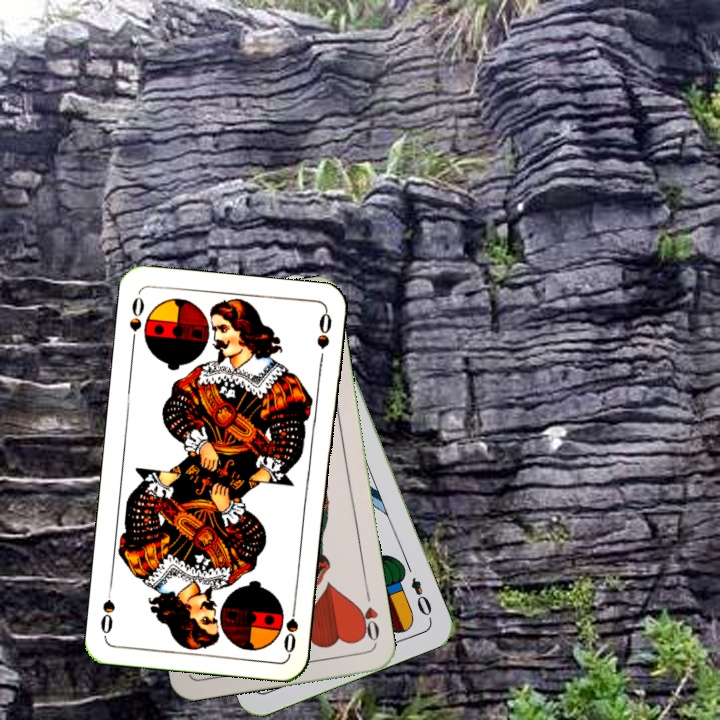EO: (406, 573, 435, 623)
HO: (353, 587, 382, 646)
SO: (279, 596, 301, 655), (125, 293, 147, 349)
